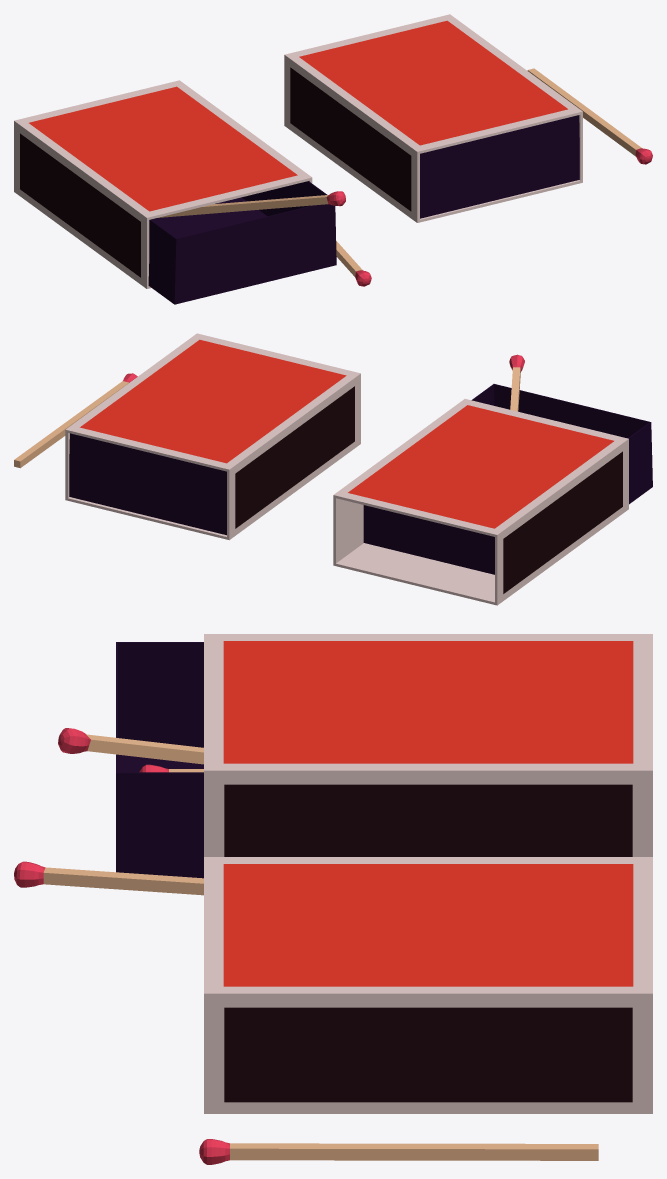
File: Matches Box + Matches.fbx
The picture shows the model from 3 angles, top to bottom: view 1: azimuth 30°, elevation 25°; view 2: azimuth 150°, elevation 25°; view 3: azimuth 270°, elevation 25°; orthographic projection. The views are drawn at different scales.
Parts seen in each view (by area): view 1: Matches Box + Matches, Matches Box, Matches; view 2: Matches Box + Matches, Matches Box, Matches; view 3: Matches Box + Matches, Matches Box, Matches.
Part boxes in pixels (<box>): Matches Box + Matches: <box>14,80,371,304</box>; Matches Box: <box>284,14,582,222</box>; Matches: <box>527,68,652,164</box>; Matches Box + Matches: <box>333,354,652,605</box>; Matches Box: <box>65,333,360,540</box>; Matches: <box>14,373,137,468</box>; Matches Box + Matches: <box>14,634,652,895</box>; Matches Box: <box>204,857,652,1113</box>; Matches: <box>199,1139,598,1164</box>.
Bounding box in the file's own units: 55 × 9.29 × 35.52.
